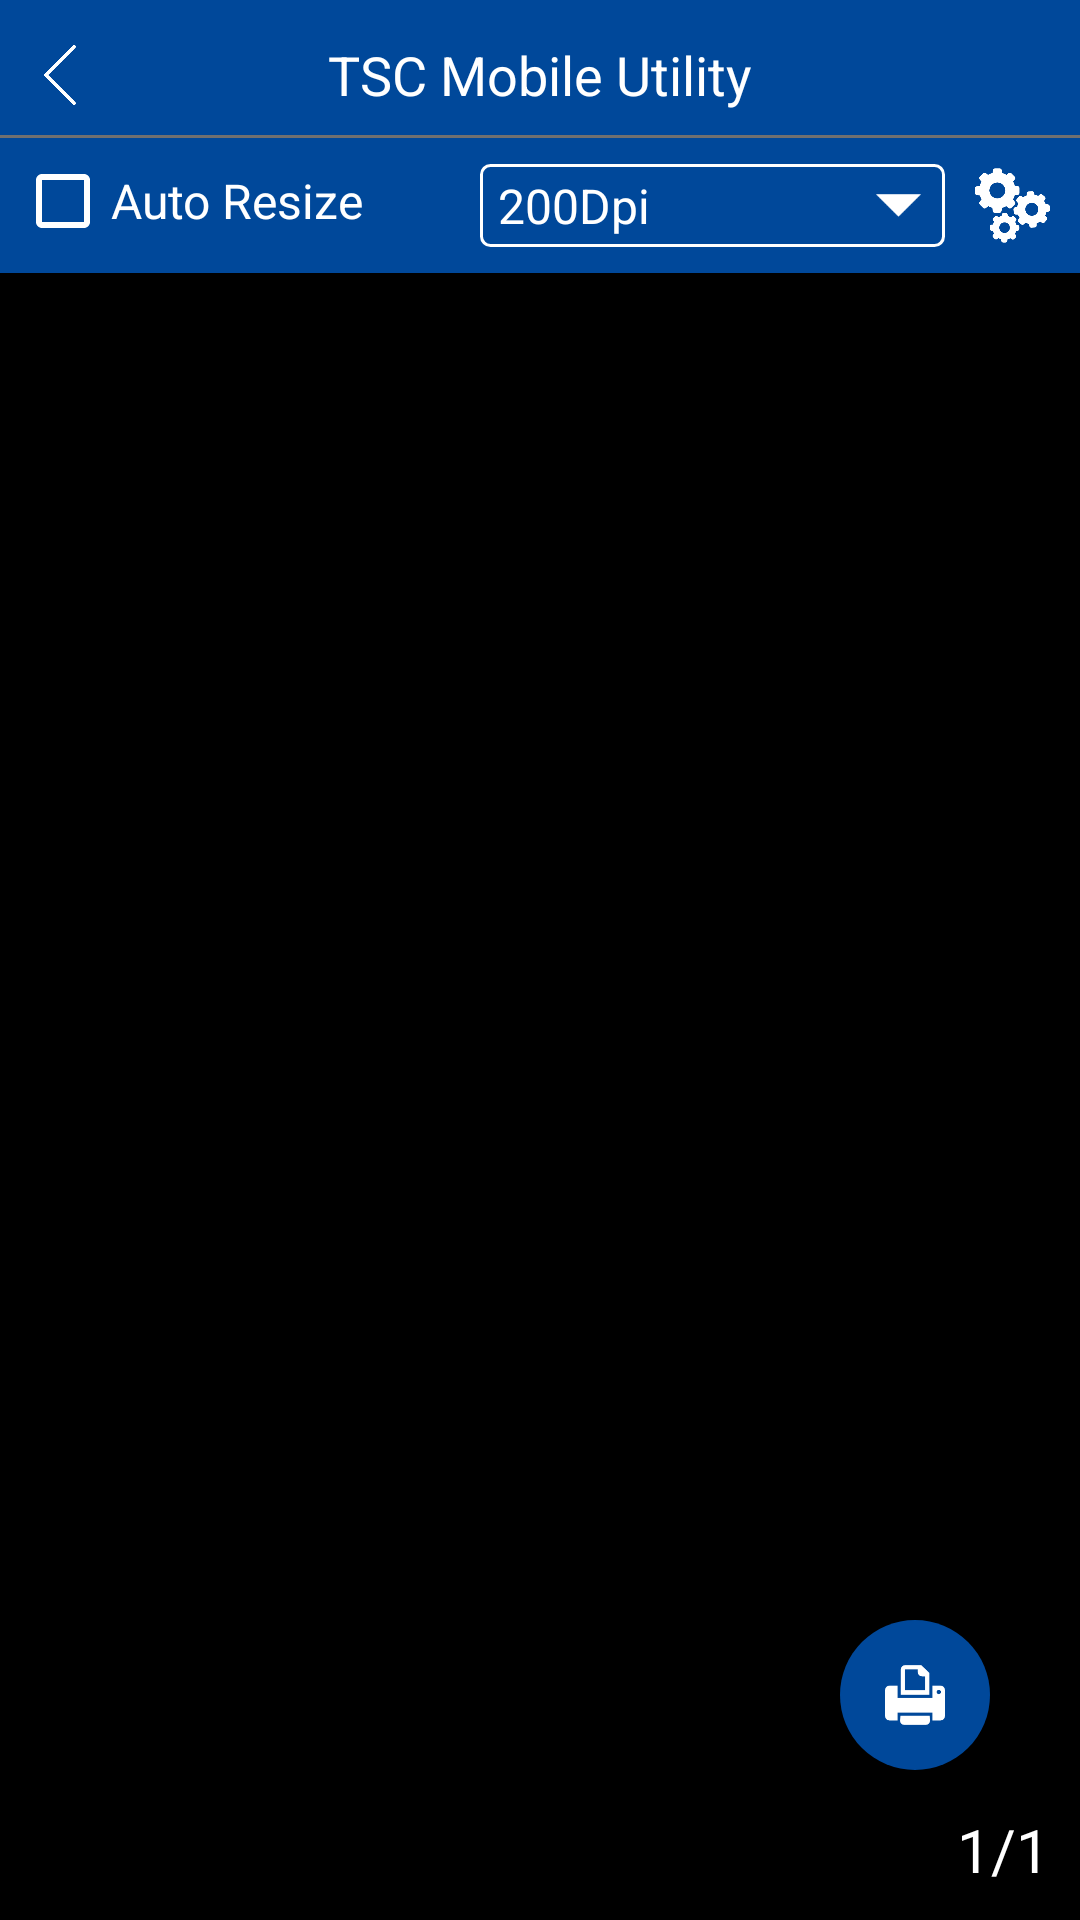

Point at icon controls on the screen. Image size 1080×1920, points as point (x, y).
arrow down: point (898, 205)
arrow left: point (60, 75)
printer: point (915, 1695)
setting: point (1012, 205)
